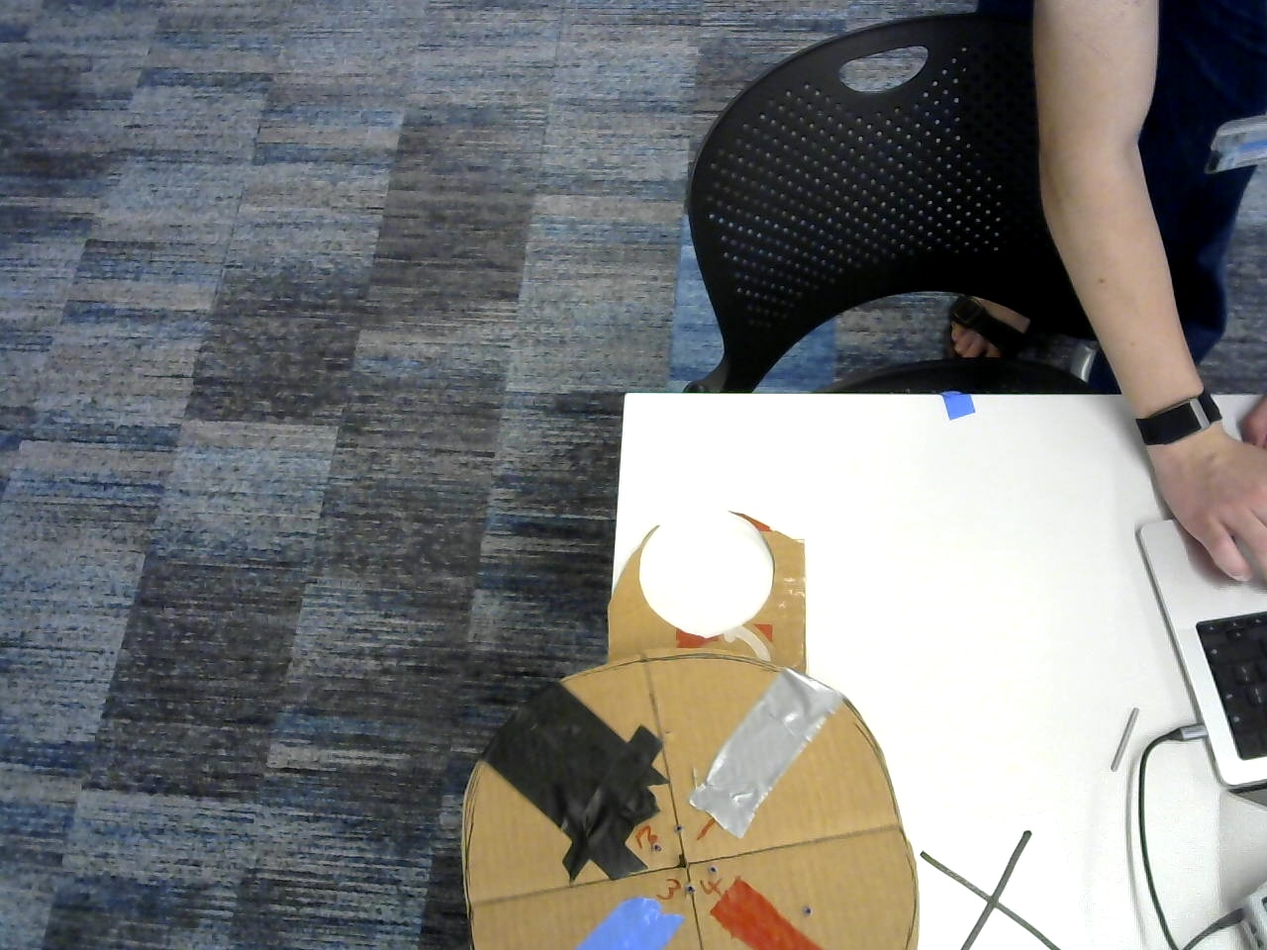black: (1202, 605, 1267, 758)
blue: (512, 896, 686, 950)
red: (707, 878, 882, 950)
silver: (689, 668, 837, 836)
x: (929, 831, 1049, 950)
